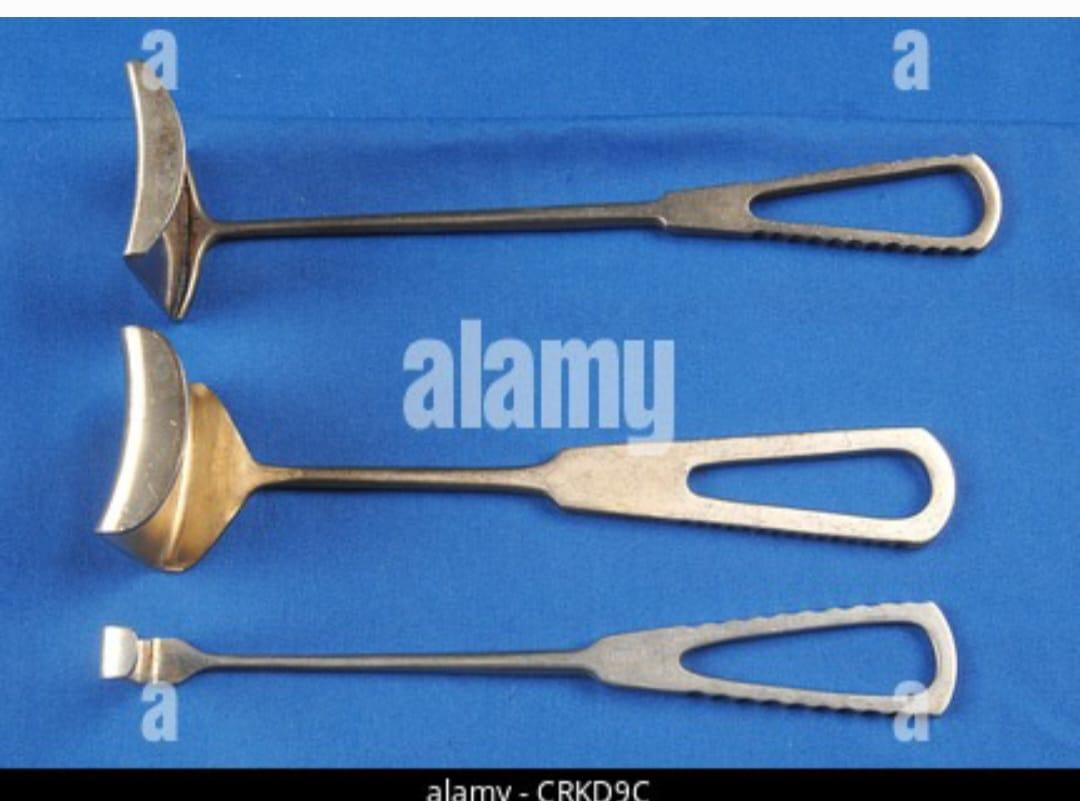Morris Retractor: (111, 44, 1006, 314), (79, 318, 970, 568)
